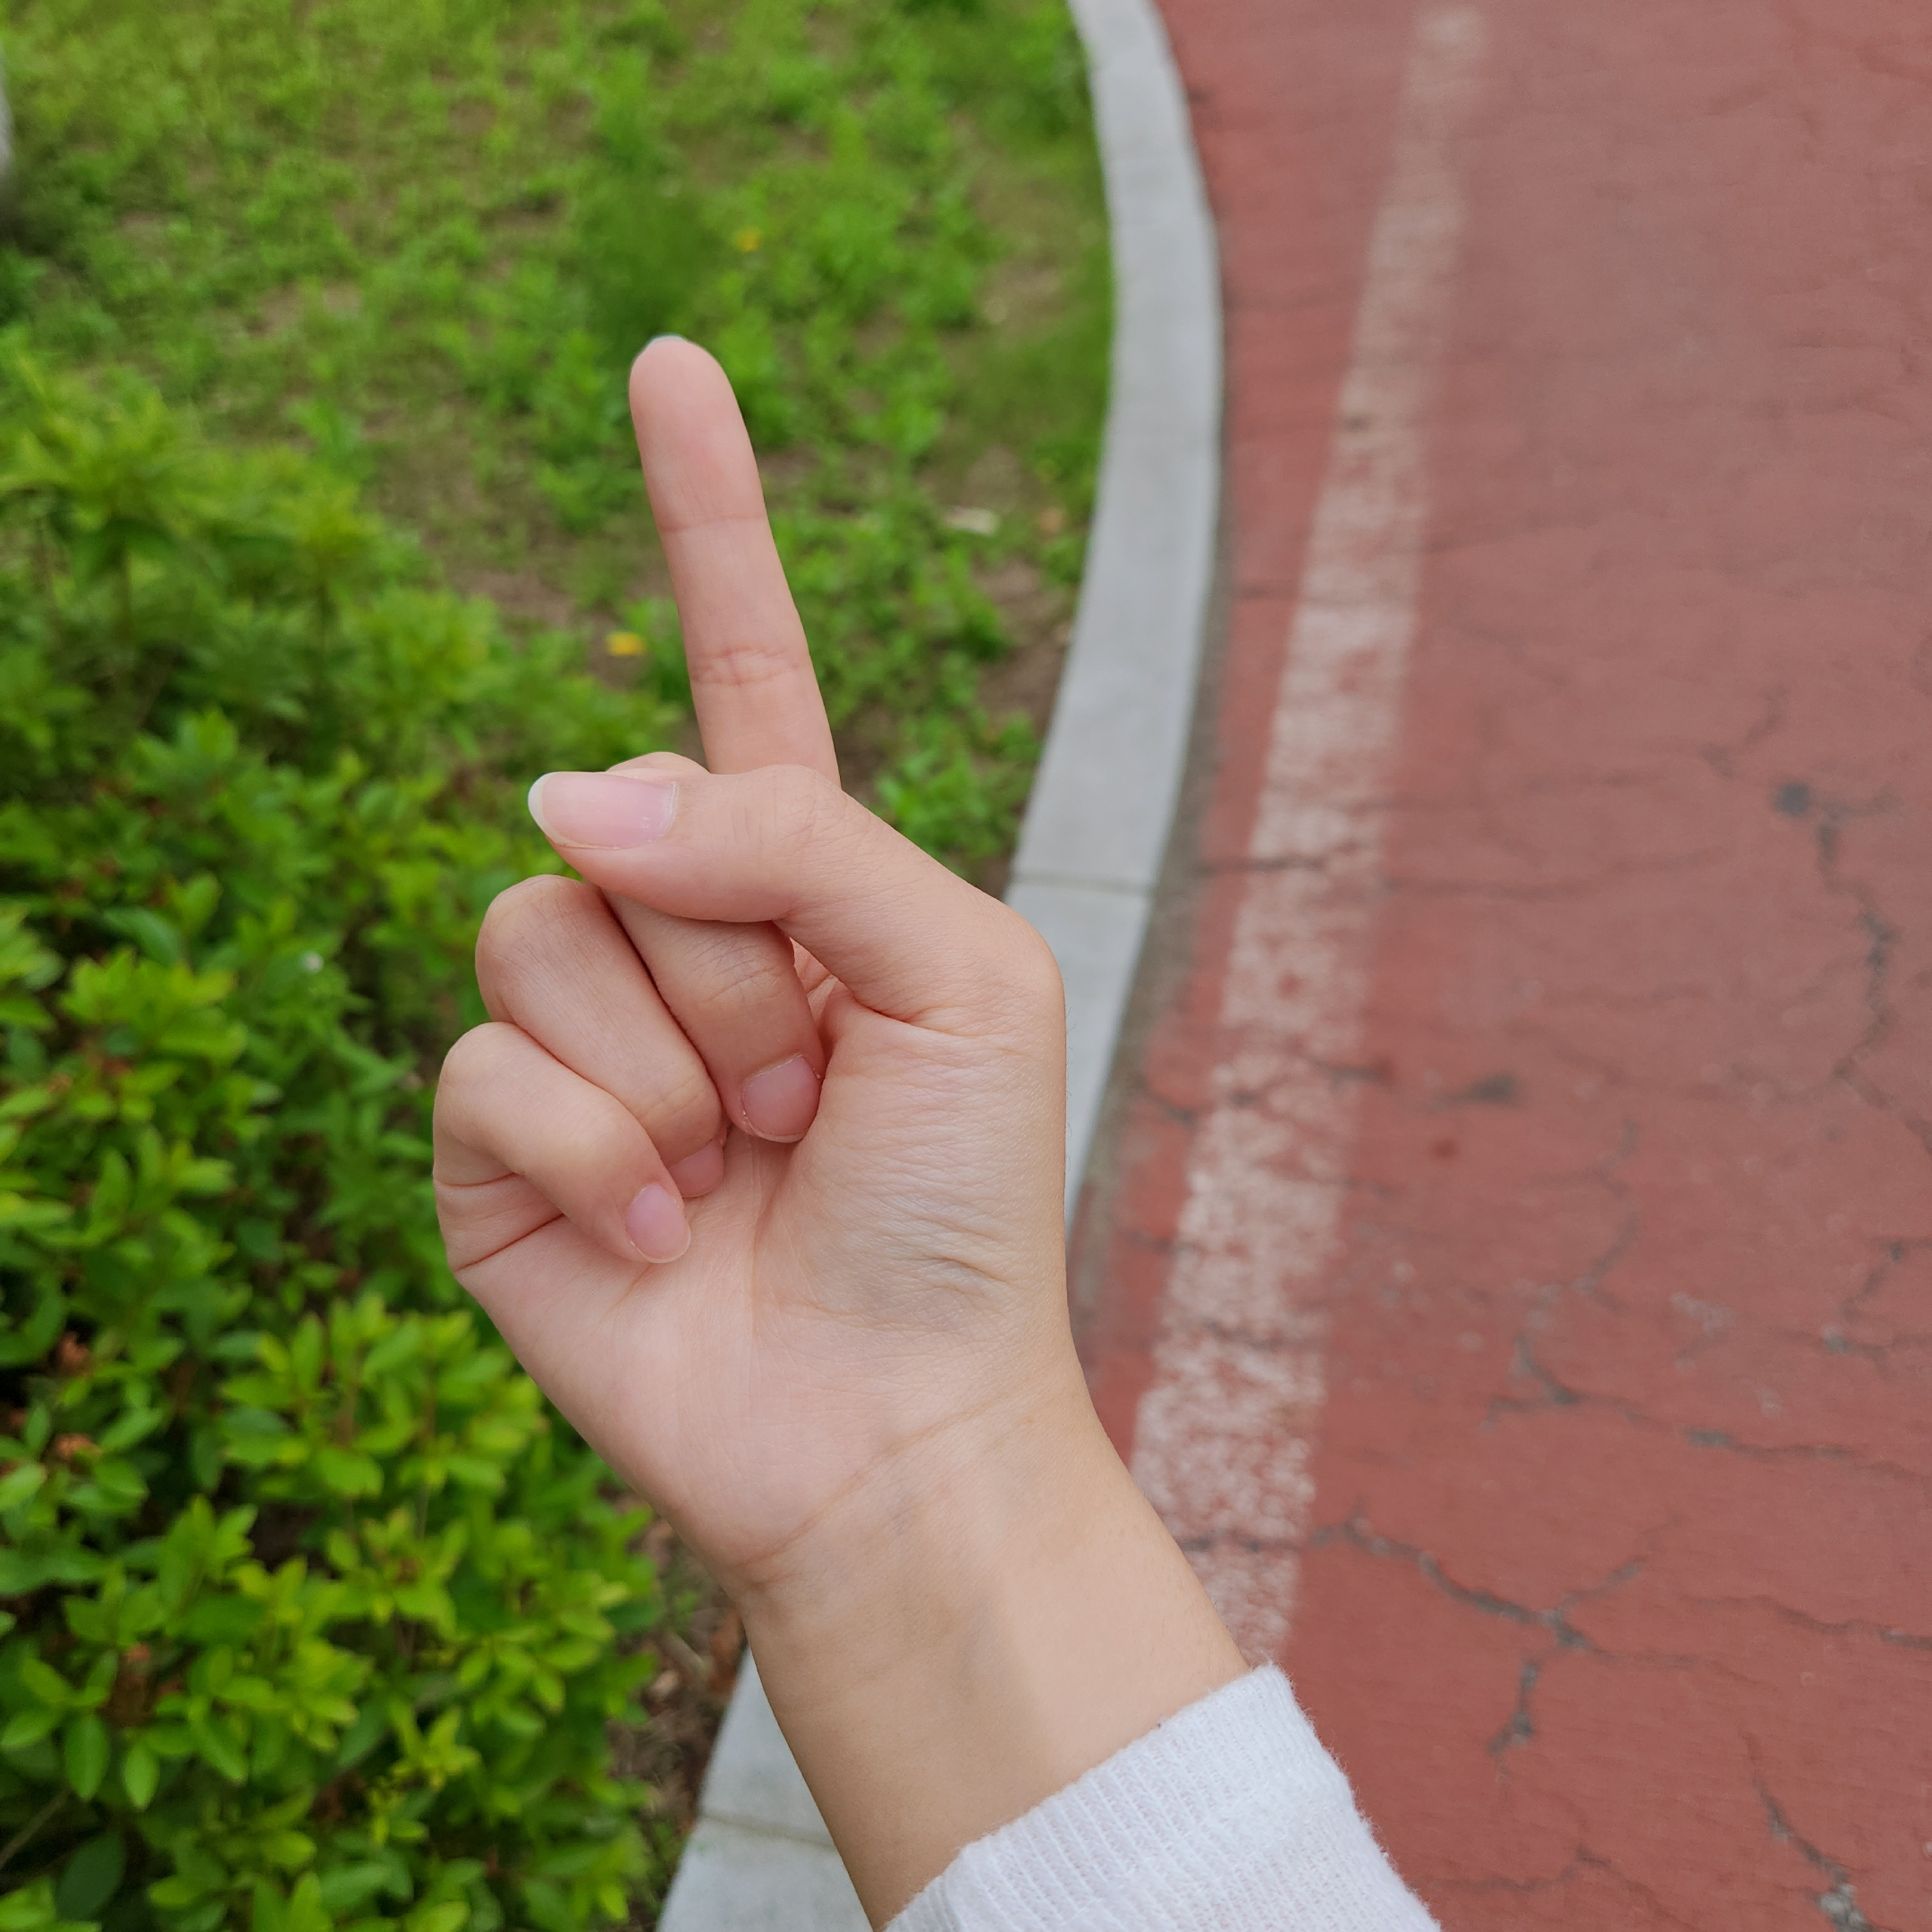what: (432, 331, 1097, 1575)
